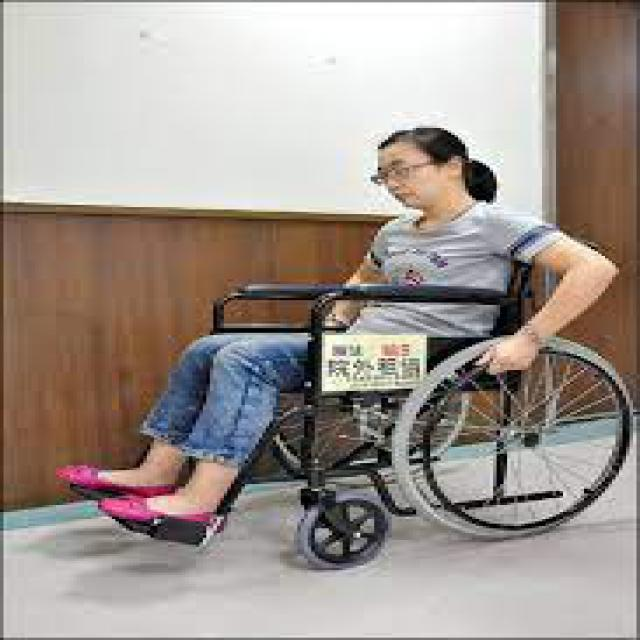wheelchairs: (116, 225, 636, 572)
